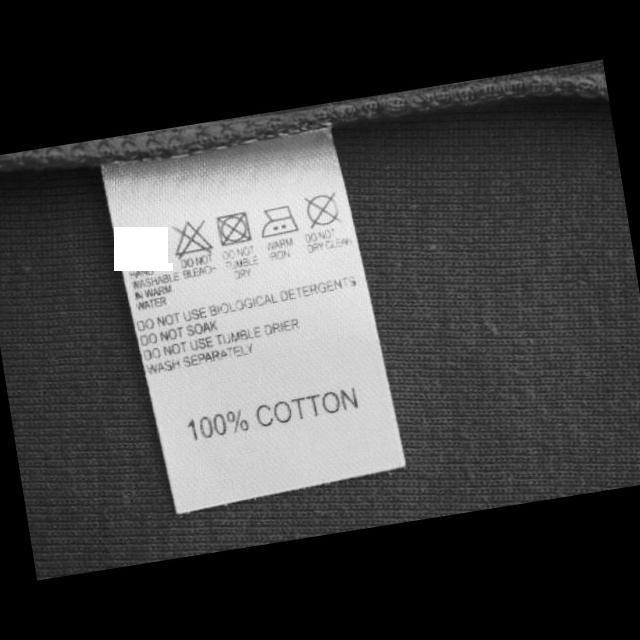DN_bleach: (168, 216, 216, 262)
DN_dry_clean: (302, 188, 346, 232)
DN_tumble_dry: (215, 209, 254, 247)
iron_medium: (256, 202, 302, 240)
